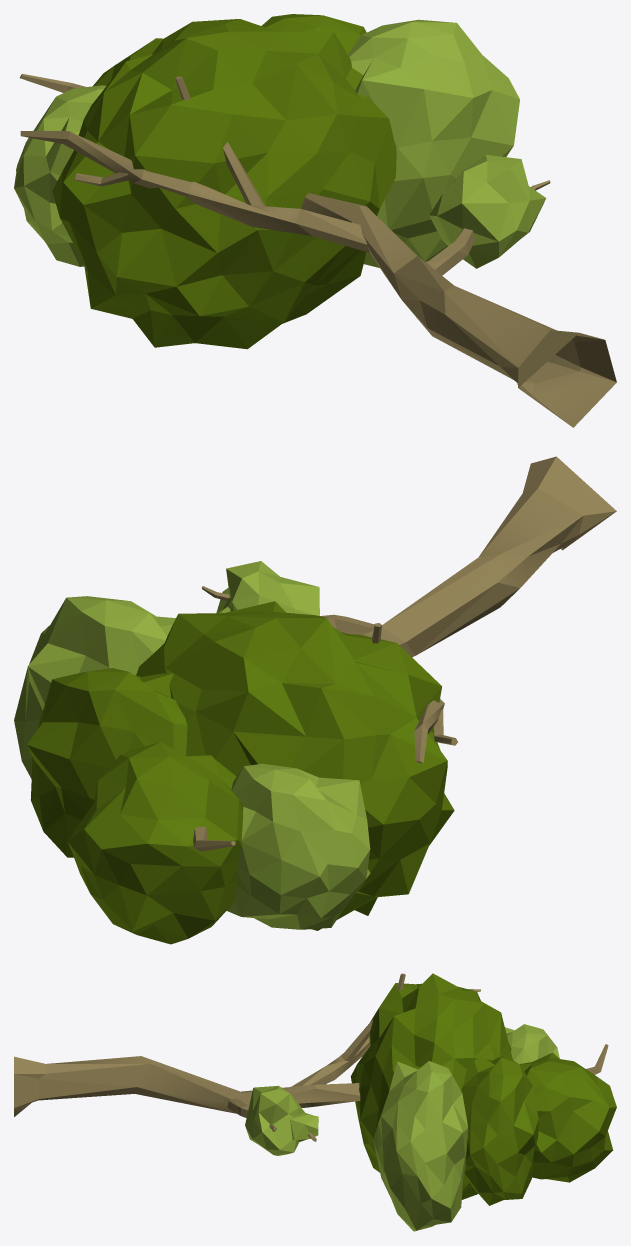
The model's file is LowPoly - Tree 01.fbx.
3 views of the same model, one above another, from view 1: azimuth 30°, elevation 25°; view 2: azimuth 150°, elevation 25°; view 3: azimuth 270°, elevation 25° (orthographic). The views are drawn at different scales.
Visible parts, largest first — view 1: LowPoly - Tree 01; view 2: LowPoly - Tree 01; view 3: LowPoly - Tree 01.
Boxes of the visible parts, x1,y1,x2,y2 form: LowPoly - Tree 01: (14, 14, 616, 427); LowPoly - Tree 01: (14, 456, 616, 944); LowPoly - Tree 01: (14, 973, 616, 1231).
Size of the model in its own units: 612 by 1062 by 394.
